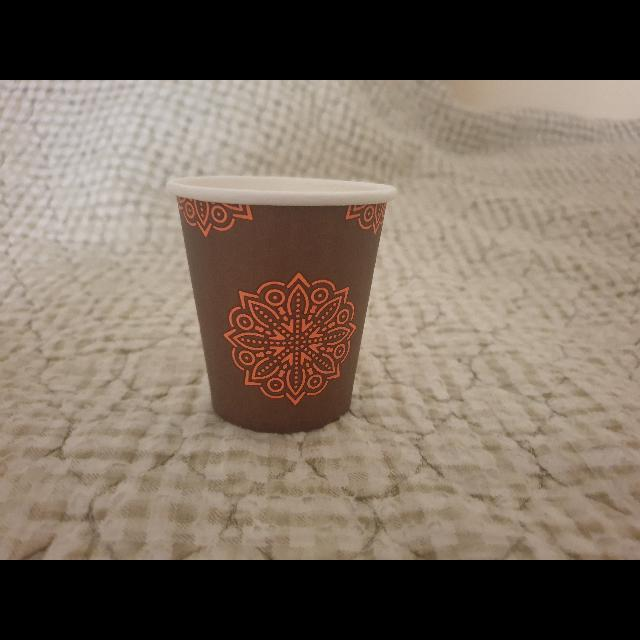trash: (165, 168, 402, 434)
